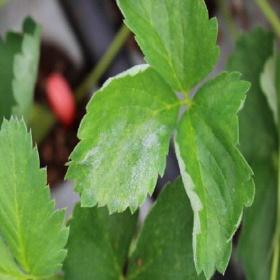Powdery Mildew Leaf: (63, 64, 180, 215), (172, 70, 256, 279), (114, 0, 220, 94)
